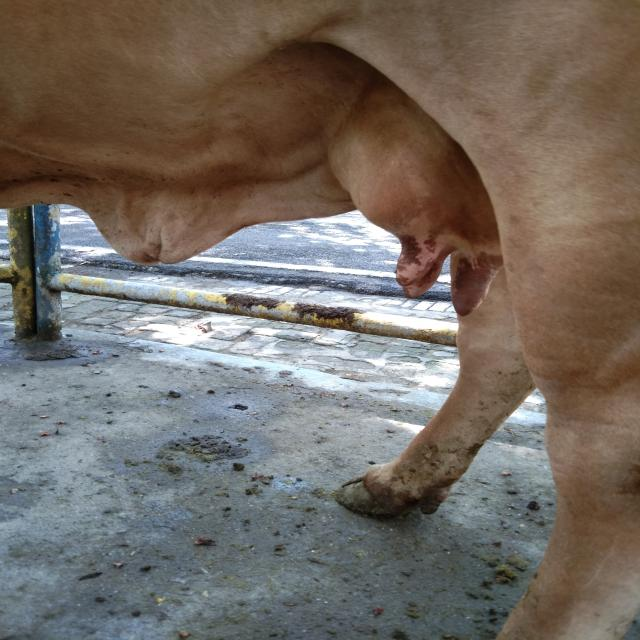Hoof: (332, 461, 449, 519)
